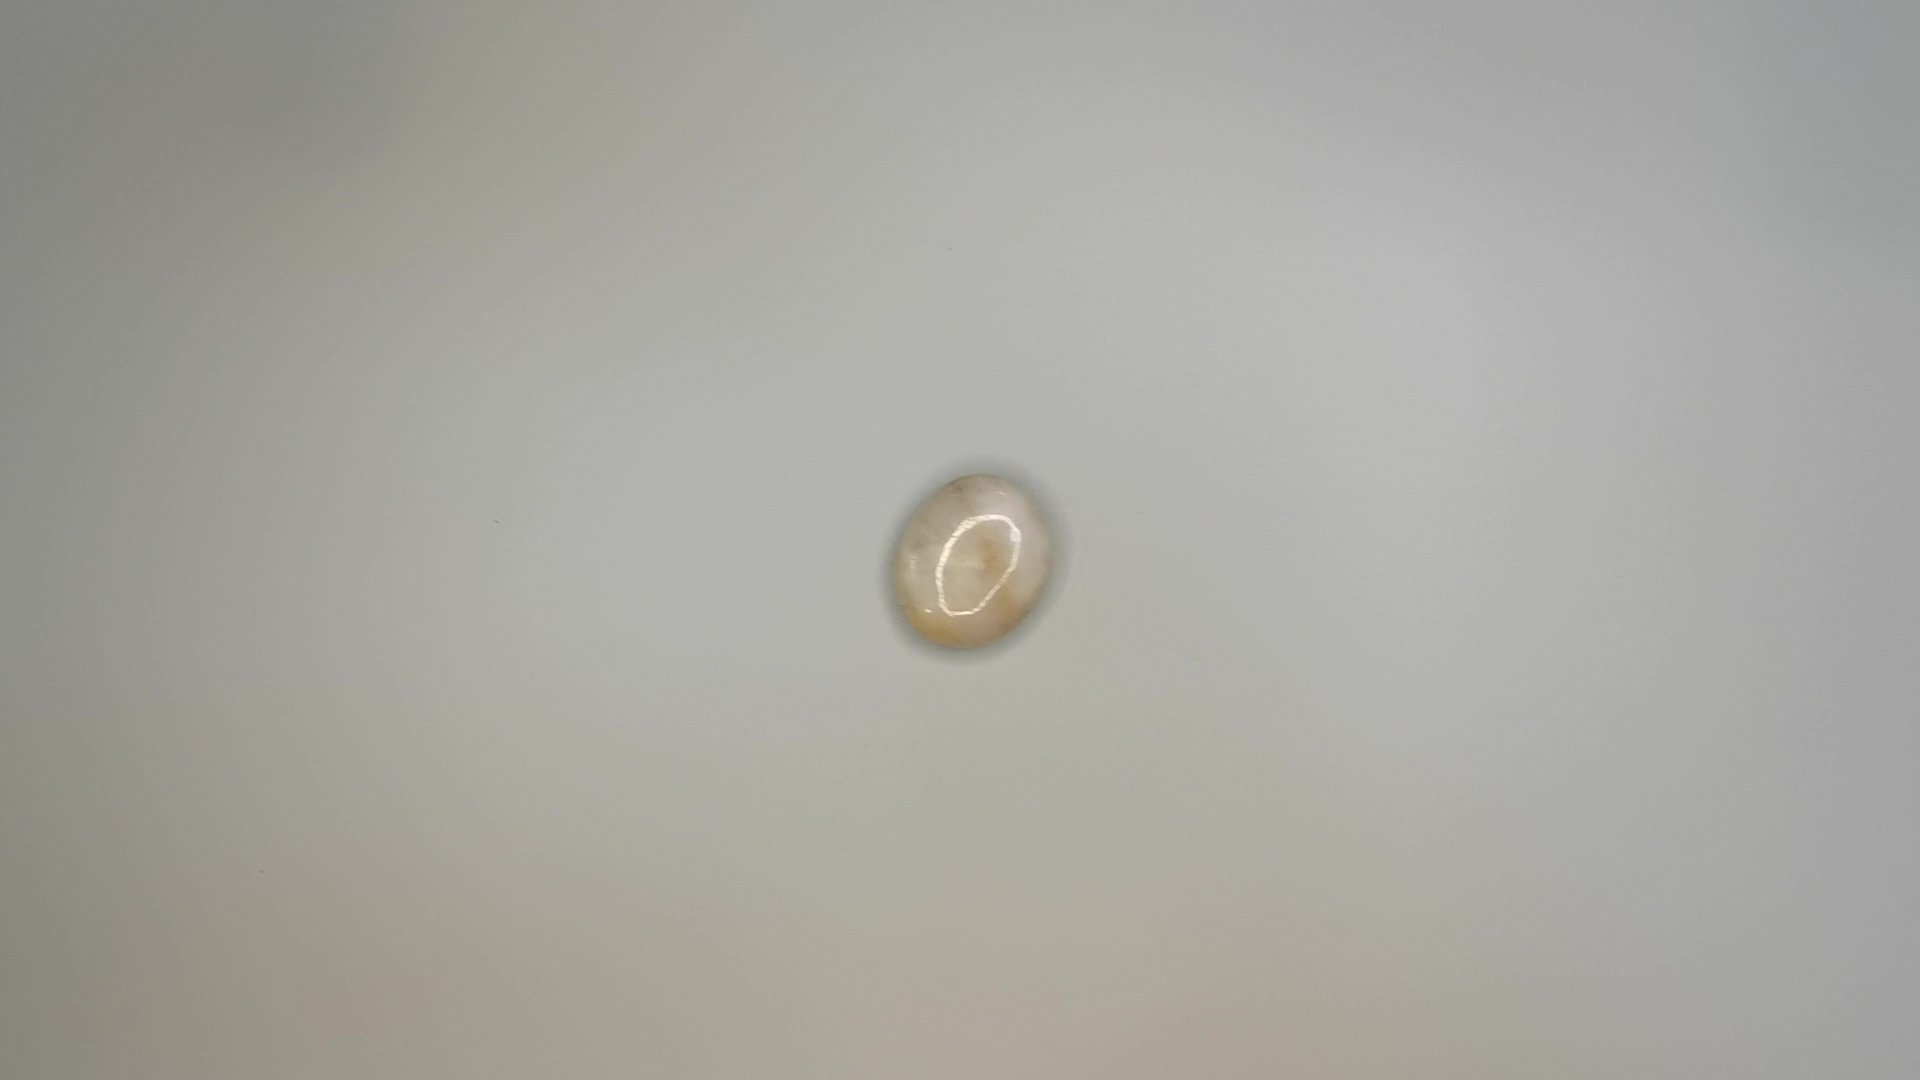ceramic: (881, 468, 1073, 659)
